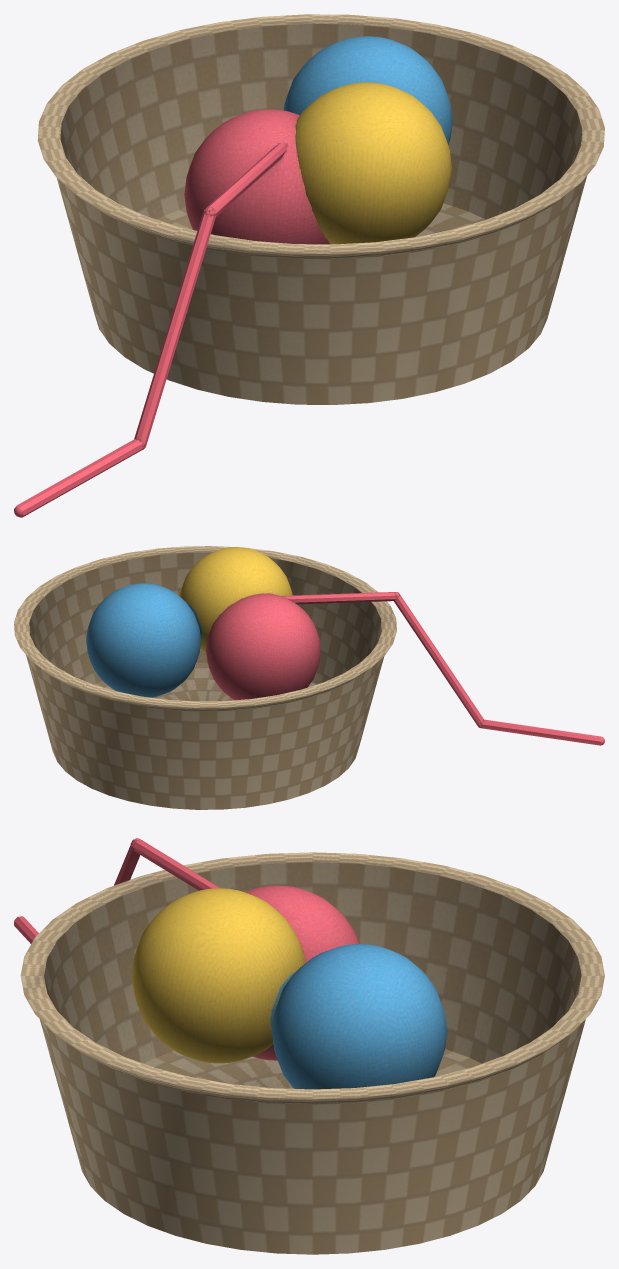
File: yarn_basket.glb
3 views of the same model, one above another, from view 1: azimuth 30°, elevation 25°; view 2: azimuth 150°, elevation 25°; view 3: azimuth 270°, elevation 25° (orthographic). The views are drawn at different scales.
Visible parts, largest first — view 1: yarn_basket; view 2: yarn_basket; view 3: yarn_basket.
Boxes of the visible parts, <box> form: yarn_basket: <box>14,14,604,517</box>; yarn_basket: <box>14,546,604,809</box>; yarn_basket: <box>14,838,604,1254</box>.
Bounding box in the file's own units: 0.706 × 0.245 × 0.5057.
Materials: 1 (1 with a texture image).
